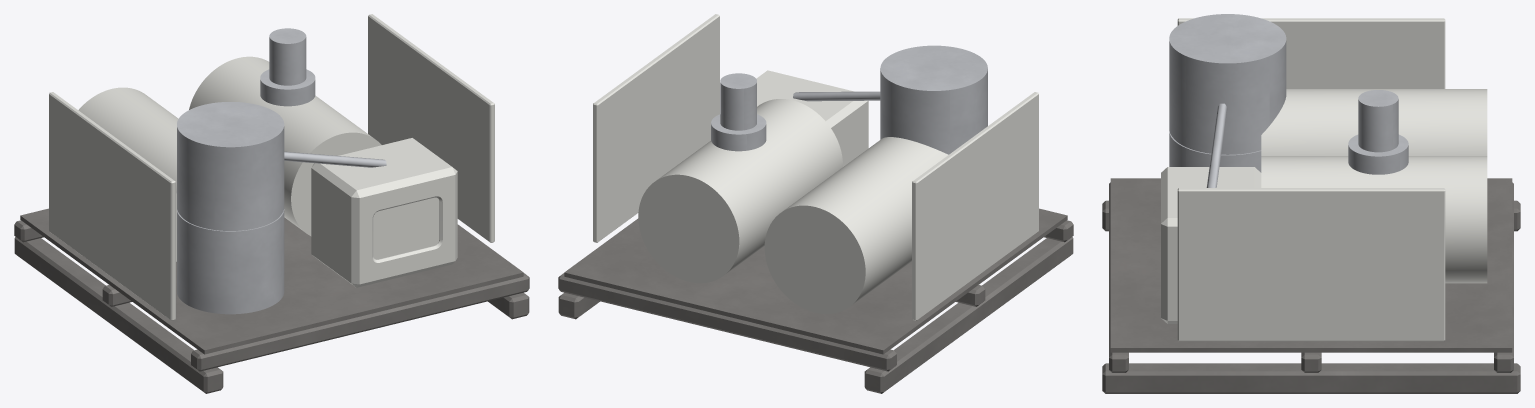
Rendered from ax_util_27_isru_plant.glb.
3 renders of one model, left to right at view 1: azimuth 30°, elevation 25°; view 2: azimuth 150°, elevation 25°; view 3: azimuth 270°, elevation 25°, orthographic. The views are drawn at different scales.
Visible parts, largest first — view 1: radiator_panels, sabatier_reactor, electrolyser, deck, skid, product_tanks, cryocooler, piping; view 2: product_tanks, radiator_panels, deck, skid, sabatier_reactor, electrolyser, cryocooler, piping; view 3: radiator_panels, product_tanks, deck, sabatier_reactor, skid, electrolyser, cryocooler, piping.
Boxes of the visible parts, bbox=[...] form: radiator_panels: bbox=[49, 14, 494, 320]; sabatier_reactor: bbox=[177, 102, 284, 314]; electrolyser: bbox=[311, 138, 457, 287]; deck: bbox=[20, 208, 523, 354]; skid: bbox=[14, 220, 529, 393]; product_tanks: bbox=[78, 56, 381, 261]; cryocooler: bbox=[260, 28, 315, 106]; piping: bbox=[284, 151, 386, 167]; product_tanks: bbox=[638, 99, 948, 313]; radiator_panels: bbox=[593, 14, 1038, 320]; deck: bbox=[564, 208, 1067, 354]; skid: bbox=[558, 220, 1073, 393]; sabatier_reactor: bbox=[880, 45, 987, 154]; electrolyser: bbox=[756, 70, 868, 166]; cryocooler: bbox=[711, 73, 766, 151]; piping: bbox=[793, 91, 880, 101]; radiator_panels: bbox=[1177, 18, 1445, 341]; product_tanks: bbox=[1261, 89, 1487, 283]; deck: bbox=[1110, 178, 1512, 352]; sabatier_reactor: bbox=[1169, 14, 1286, 172]; skid: bbox=[1102, 182, 1520, 393]; electrolyser: bbox=[1161, 167, 1261, 323]; cryocooler: bbox=[1348, 90, 1408, 174]; piping: bbox=[1206, 103, 1227, 187].
Size of the model in its own units: 2.5 by 1.55 by 2.5.
3 materials, 2 textured.
